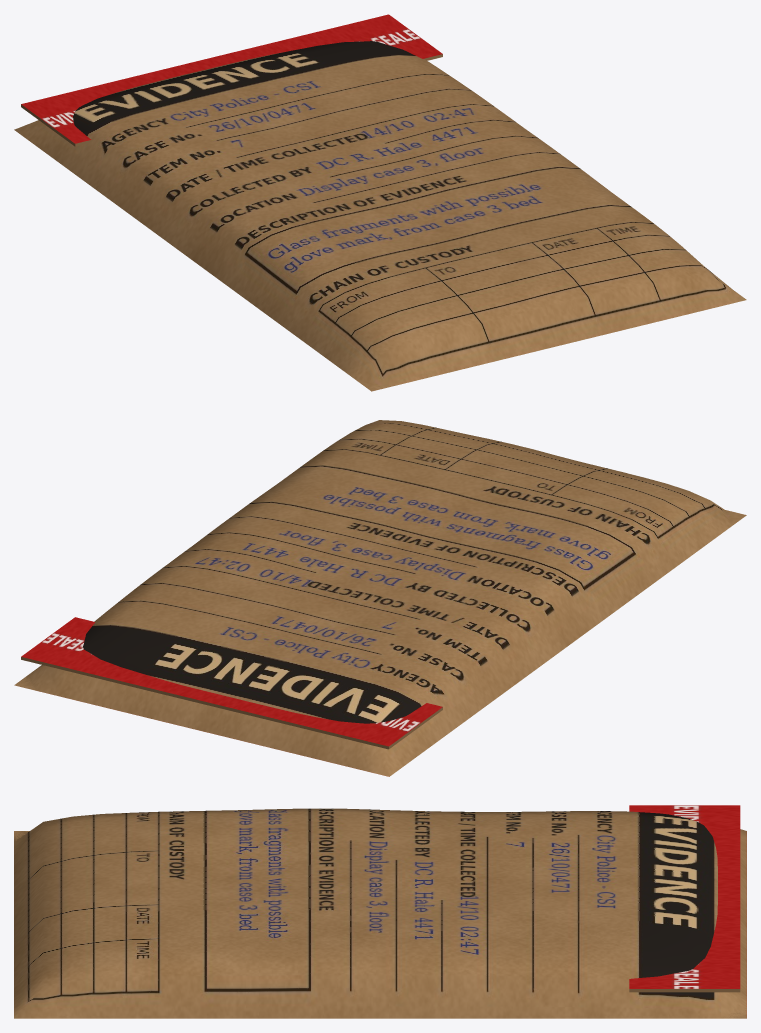
The model's file is EvidenceBagPaper.obj.
3 views of the same model, one above another, from view 1: azimuth 30°, elevation 25°; view 2: azimuth 150°, elevation 25°; view 3: azimuth 270°, elevation 25° (orthographic). The views are drawn at different scales.
Visible parts, largest first — view 1: BagKraft; view 2: BagKraft; view 3: BagKraft.
Part boxes in pixels (x1,y1,x2,y2): BagKraft: (14,14,746,391); BagKraft: (14,420,746,776); BagKraft: (14,805,746,1018).
Size of the model in its own units: 0.2 by 0.0219 by 0.33.
Materials: 1 (1 with a texture image).
